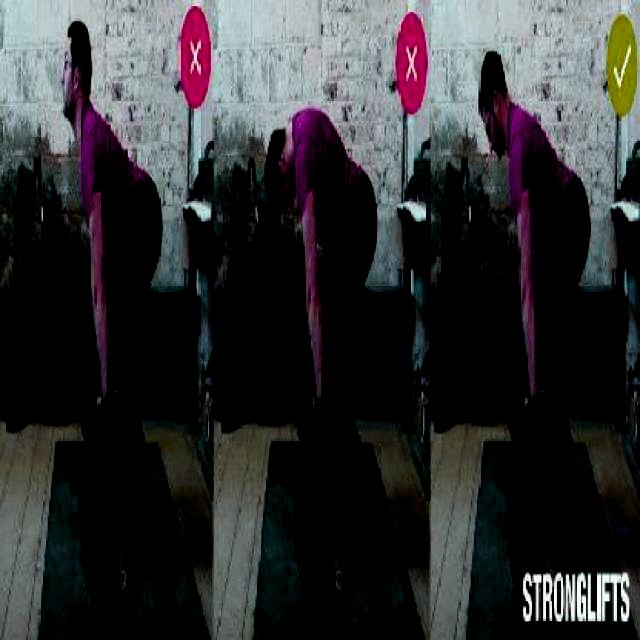barbell: (75, 379, 162, 640), (292, 382, 370, 637)
